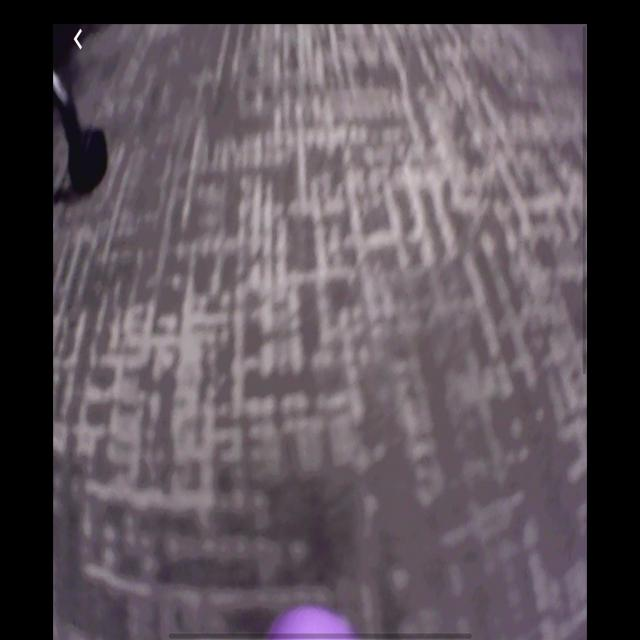ball: (268, 604, 357, 639)
